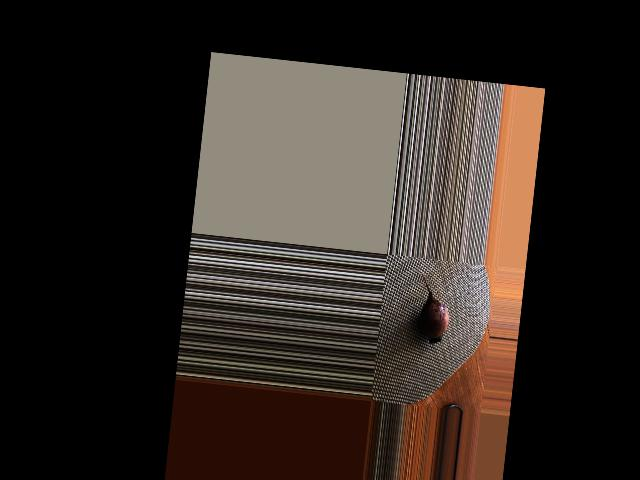beet: (410, 270, 453, 345)
